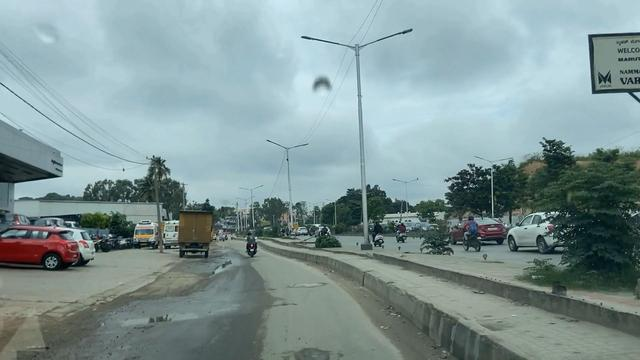RoadDamages: (287, 342, 346, 360), (289, 274, 329, 294)
